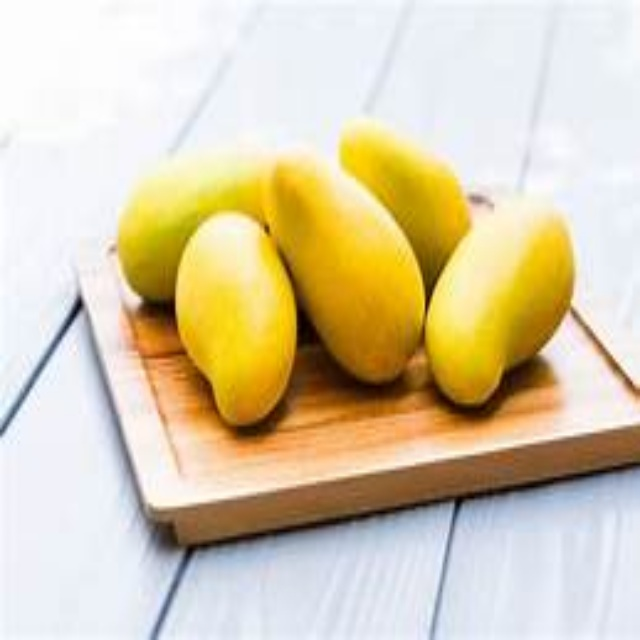mango: (266, 147, 415, 382), (437, 196, 574, 412), (179, 212, 299, 434), (116, 148, 283, 302), (341, 116, 470, 267)
